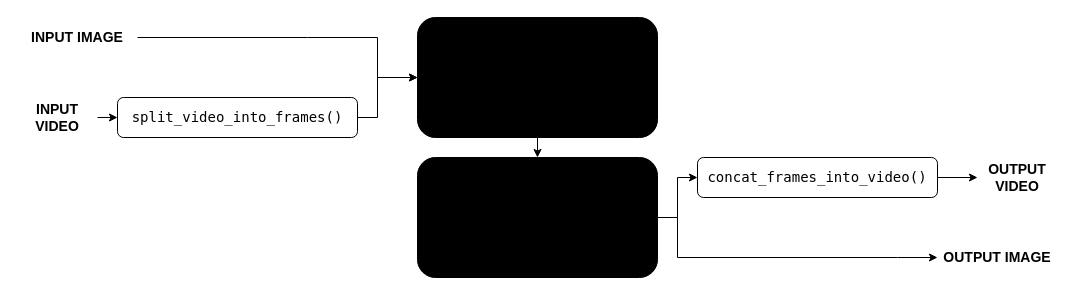
Some shapes in this 1074 by 295 pixel diagram are drawn without their labels. Here are the shapes that lost their labels. From the top down, the box of each, then its label:
(416, 16, 658, 138): POSE ESTIMATION MODEL - EXTRACTS KEYPOINTS
(416, 156, 658, 278): CLASSIFIER - DETERMINES IF PIN IS PRESENT OR NOT
